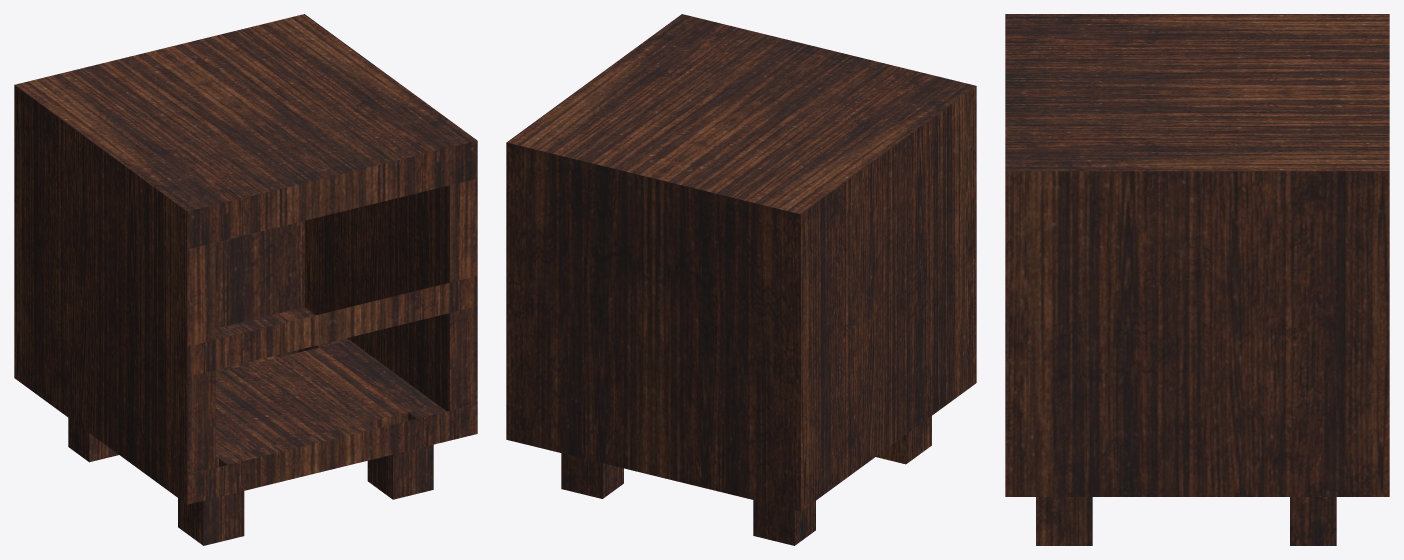
The model's file is nighttable_colored.FBX.
3 renders of one model, left to right at view 1: azimuth 30°, elevation 25°; view 2: azimuth 150°, elevation 25°; view 3: azimuth 270°, elevation 25°, orthographic. The views are drawn at different scales.
Visible parts, largest first — view 1: Box001; view 2: Box001; view 3: Box001.
Part boxes in pixels (x1,y1,x2,y2): Box001: (14,14,477,545); Box001: (506,14,976,545); Box001: (1005,14,1389,545).
Size of the model in its own units: 35.32 by 40.9 by 36.47.
1 material, 1 textured.
